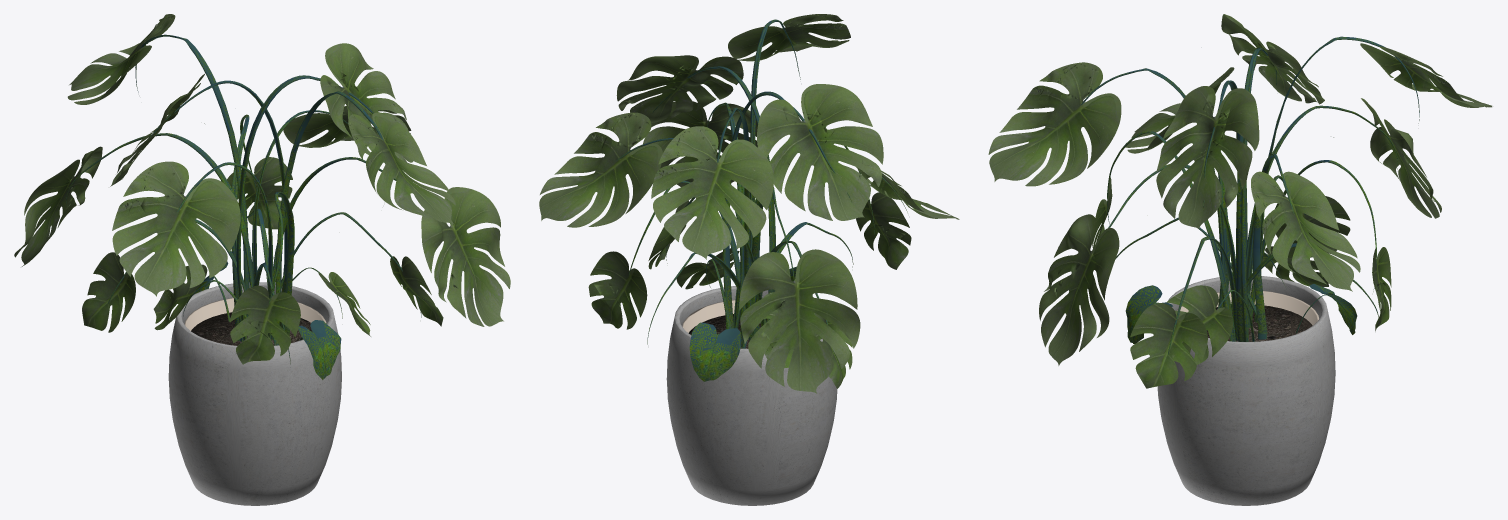
Rendered from plant.gltf.
The picture shows the model from 3 angles, left to right: view 1: azimuth 30°, elevation 25°; view 2: azimuth 150°, elevation 25°; view 3: azimuth 270°, elevation 25°; orthographic projection. The views are drawn at different scales.
Parts seen in each view (by area): view 1: Plant l011, Cocnret011, 000_Pfl011, Earth -011, Plastic011; view 2: Plant l011, Cocnret011, 000_Pfl011, Plastic011; view 3: Plant l011, Cocnret011, 000_Pfl011, Earth -011, Plastic011.
Part boxes in pixels (x1,y1,x2,y2): Plant l011: (14,14,510,364); Cocnret011: (168,282,341,505); 000_Pfl011: (66,34,421,379); Earth -011: (191,312,312,345); Plastic011: (184,298,326,330); Plant l011: (539,14,959,393); Cocnret011: (666,286,837,505); 000_Pfl011: (616,19,907,381); Plastic011: (682,300,735,332); Plant l011: (988,14,1492,388); Cocnret011: (1157,276,1335,505); 000_Pfl011: (1081,36,1419,354); Earth -011: (1207,305,1312,341); Plastic011: (1177,290,1319,325).
Bounding box in the file's own units: 0.8854 × 1.01 × 1.08.
6 materials, 4 textured.
